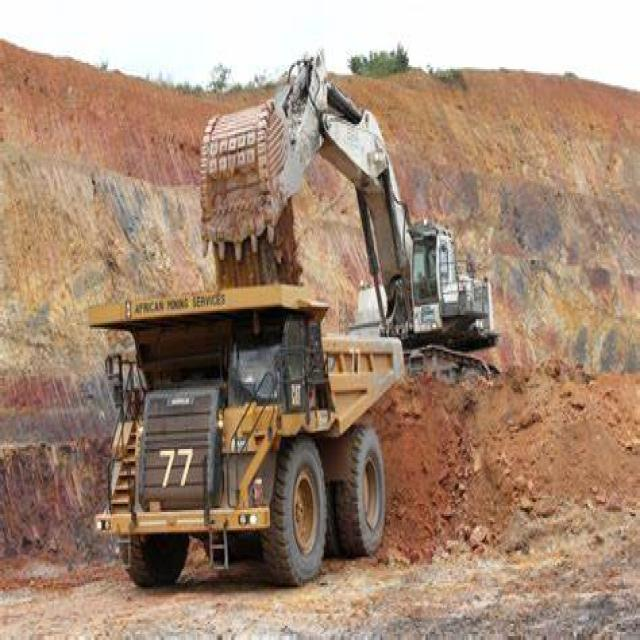dump_truck: (82, 272, 414, 581)
excavator: (201, 51, 516, 418)
